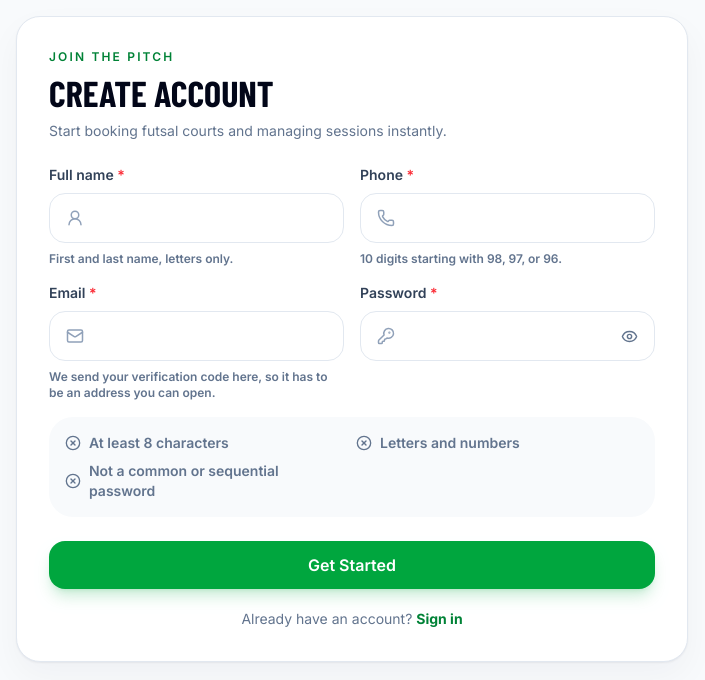
it: Register › refuses 12345678 and says why
The image size is (705, 680).
Type "Bibek Shrestha" into the field labelled "Full name * First and last name, letters only." at (196, 218), box top-left (49, 193), bottom-right (344, 243)
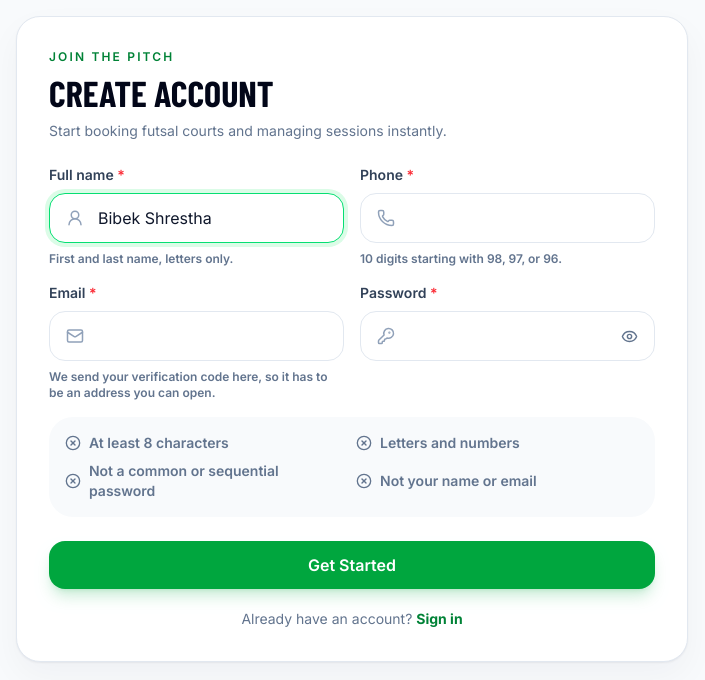
Type "9800000009" into the field labelled "Phone * 10 digits starting with 98, 97, or 96." at (508, 218), box top-left (360, 193), bottom-right (655, 243)
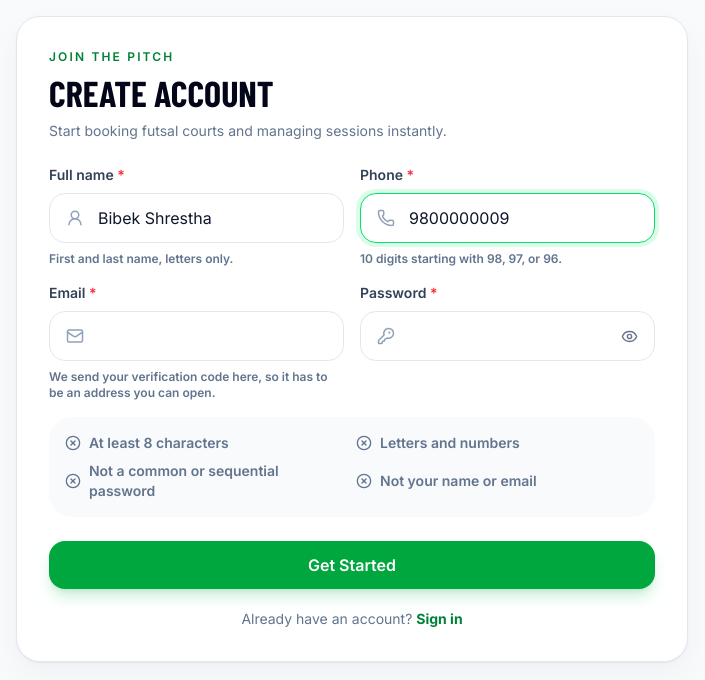
Type "bibek@gmail.com" into the field labelled "Email" at (196, 336), box top-left (49, 311), bottom-right (344, 361)
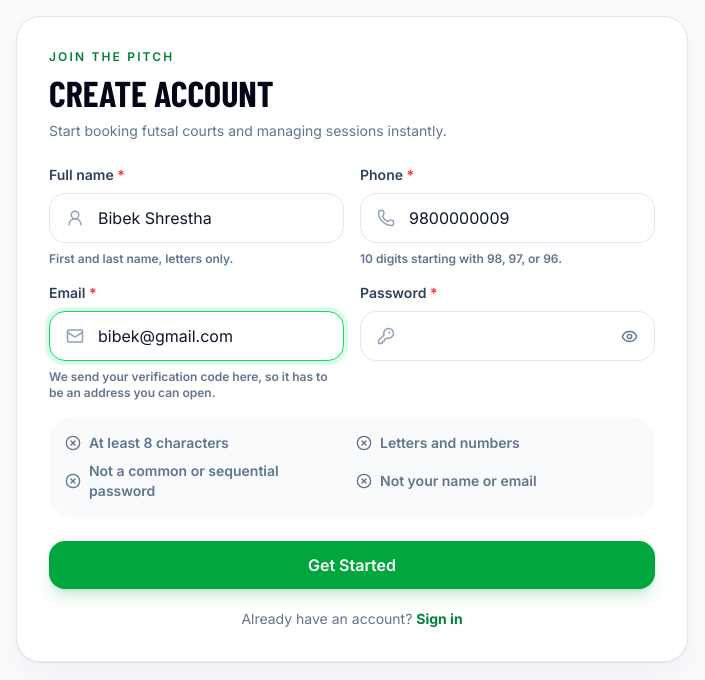
Type "12345678" into the password field labelled "Password *" at (508, 336), box top-left (360, 311), bottom-right (655, 361)
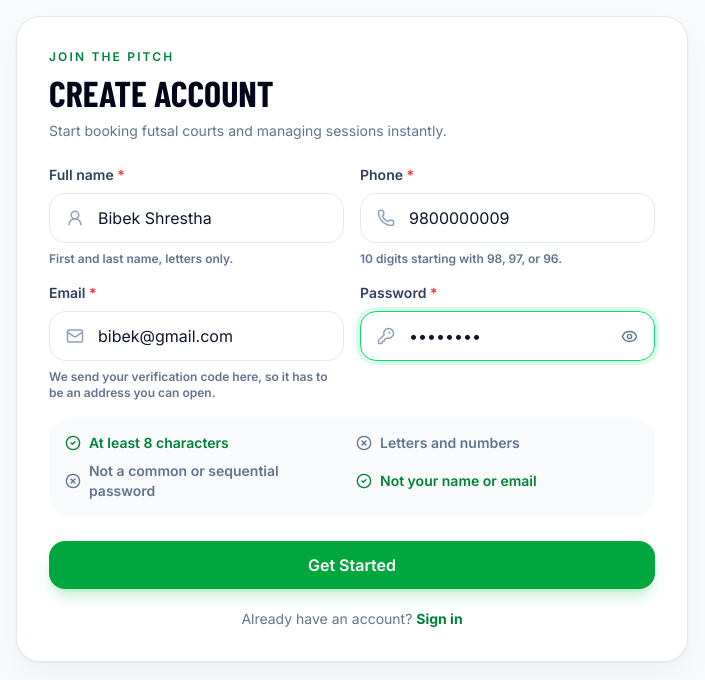
Click the button "Get Started" at (352, 565), box top-left (49, 541), bottom-right (655, 589)
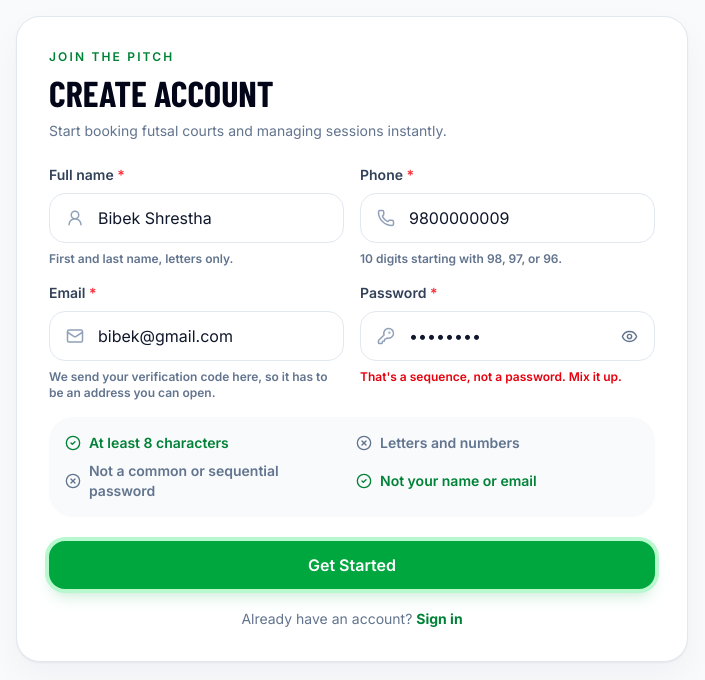
Expected: the text "That's a sequence, not a password. Mix it up." is shown, top-left (360, 369), bottom-right (655, 385)
